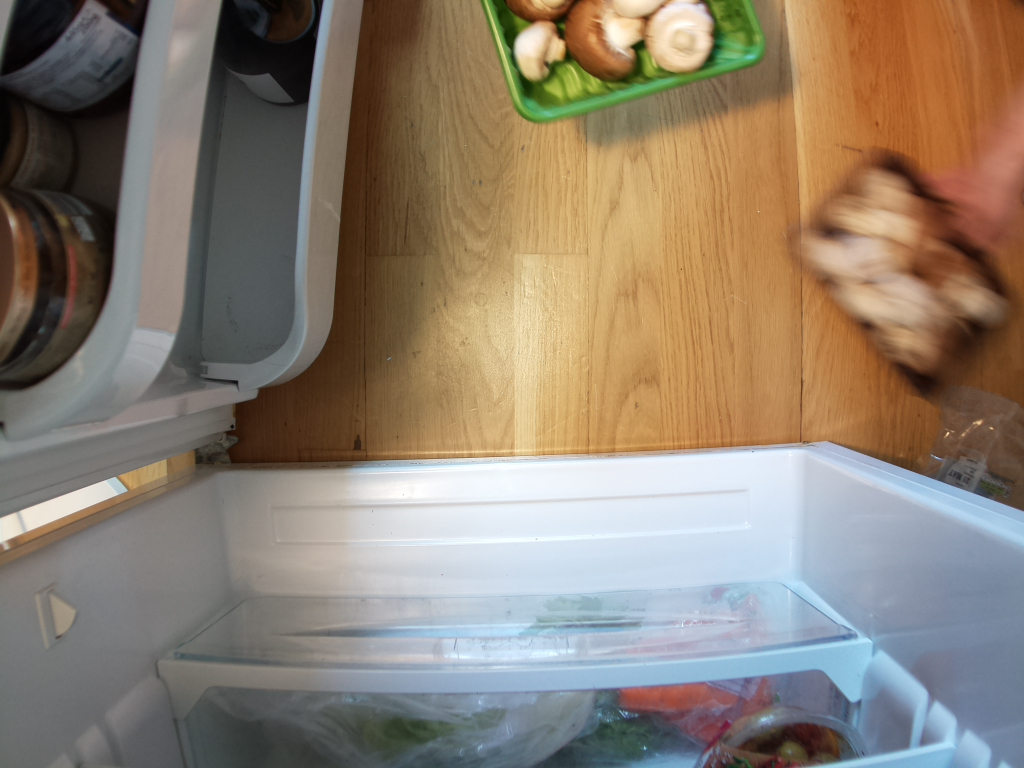mushrooms: (794, 149, 1001, 388), (499, 1, 743, 107)
